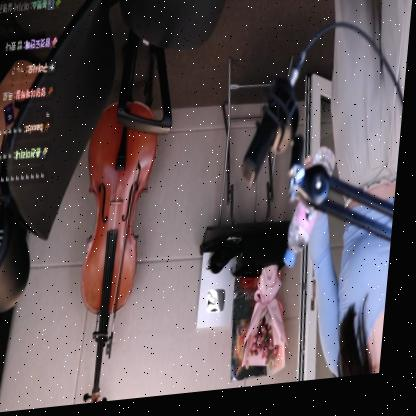streamer: (302, 0, 416, 389)
